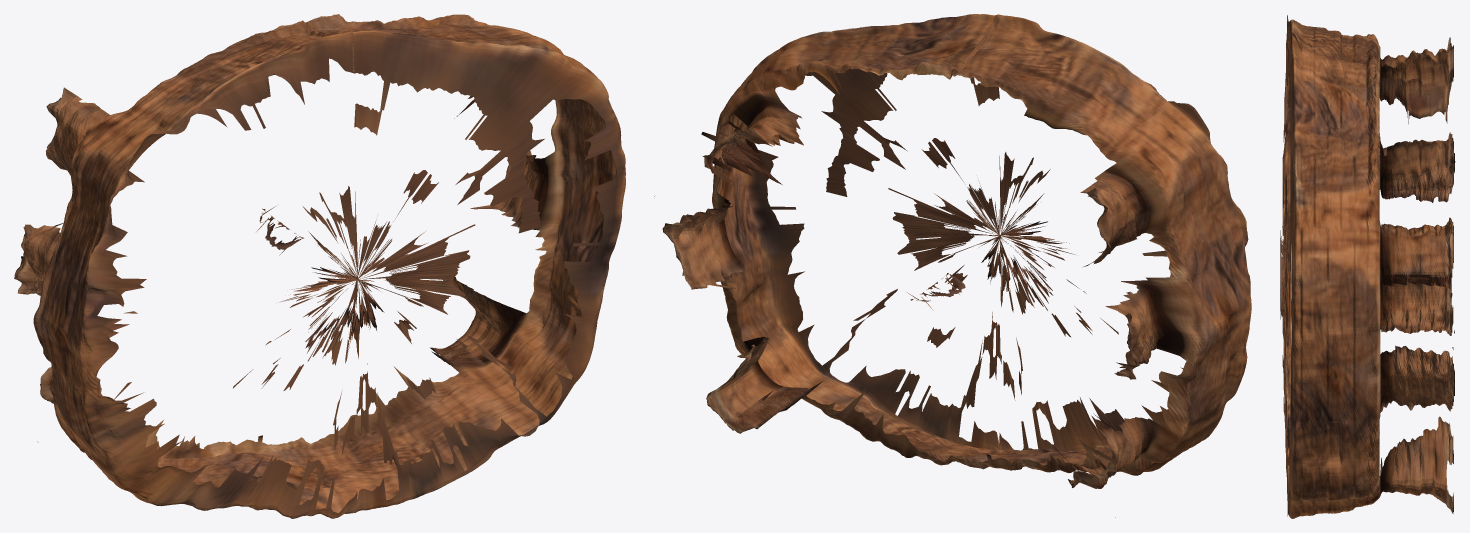
The picture shows the model from 3 angles, left to right: view 1: azimuth 30°, elevation 25°; view 2: azimuth 150°, elevation 25°; view 3: azimuth 270°, elevation 25°; orthographic projection. The views are drawn at different scales.
Parts seen in each view (by area): view 1: geometry_0; view 2: geometry_0; view 3: geometry_0.
Boxes of the visible parts, <box> form: geometry_0: <box>14,14,625,518</box>; geometry_0: <box>654,14,1251,517</box>; geometry_0: <box>1280,15,1455,518</box>.
Bounding box in the file's own units: 1.97 × 1.65 × 0.6223.
1 material, 1 textured.
